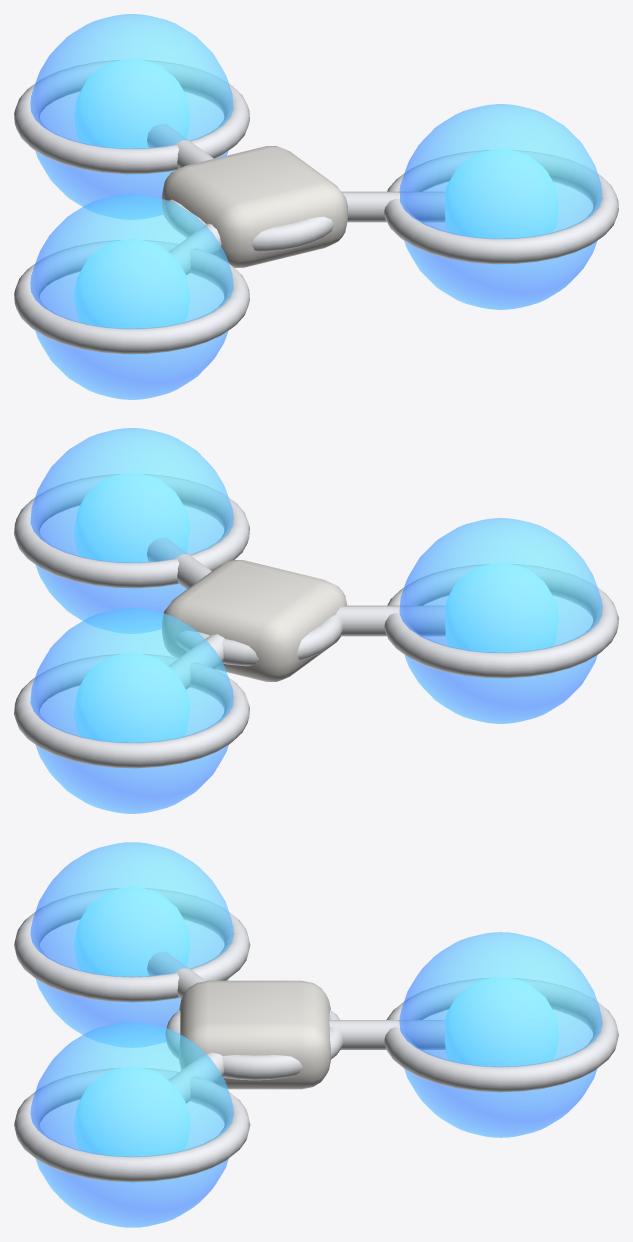
File: clear_dots.glb
3 renders of one model, top to bottom at view 1: azimuth 30°, elevation 25°; view 2: azimuth 150°, elevation 25°; view 3: azimuth 270°, elevation 25°, orthographic.
Parts seen in each view (by area): view 1: clear_dots; view 2: clear_dots; view 3: clear_dots.
Part boxes in pixels (left/top/right/bottom): clear_dots: left=14, top=14, right=618, bottom=399; clear_dots: left=14, top=428, right=618, bottom=813; clear_dots: left=14, top=842, right=618, bottom=1227.
Size of the model in its own units: 0.5657 by 0.176 by 0.517.
